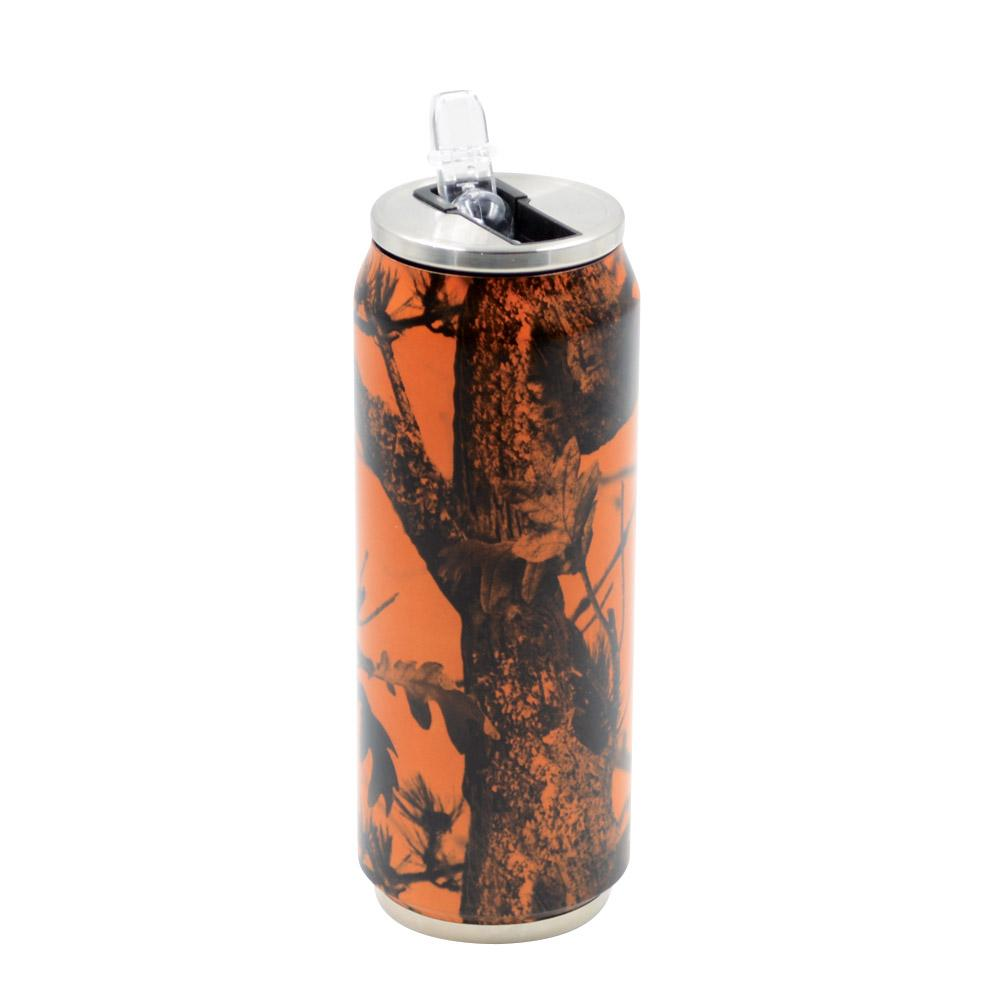metal: (355, 89, 640, 943)
